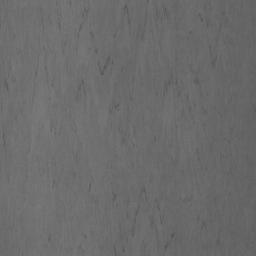Silk spot: (0, 0, 254, 256), (0, 0, 16, 39)
